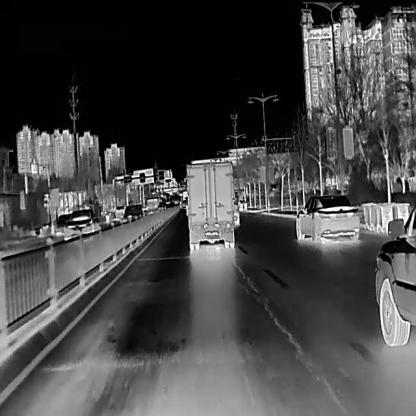bus: (145, 197, 165, 214)
car: (372, 203, 416, 346), (294, 193, 360, 242), (63, 208, 100, 240), (120, 202, 146, 223), (54, 212, 73, 235), (114, 204, 128, 218)
truck: (185, 159, 234, 251)
